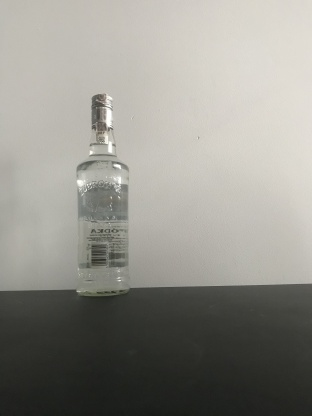nakretka: (89, 90, 115, 131)
